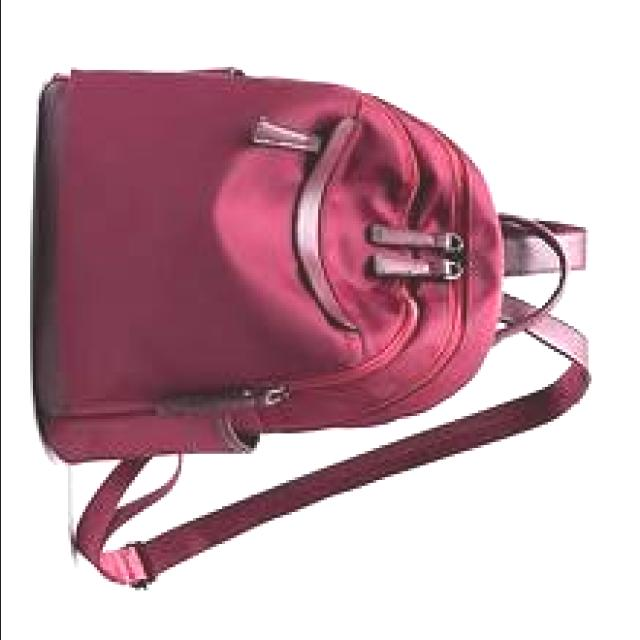backpack: (33, 66, 595, 592)
